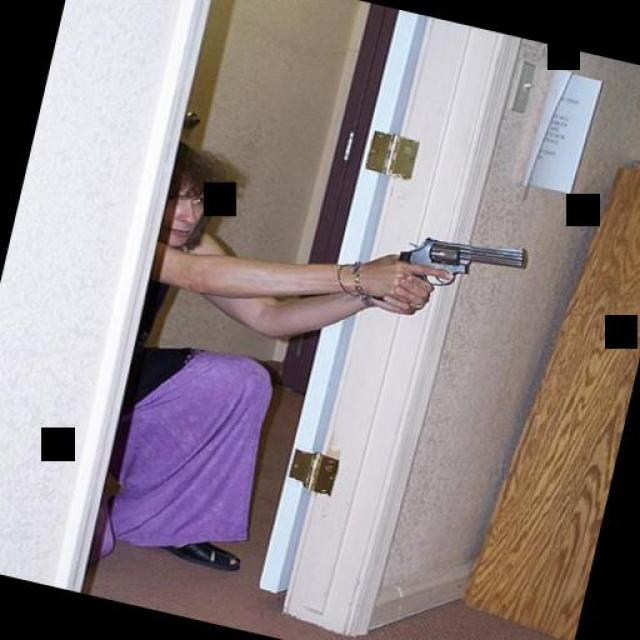gun: (367, 208, 528, 328)
